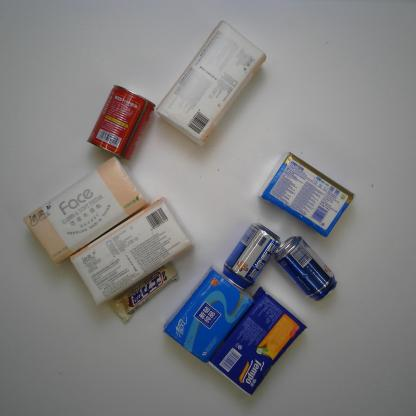Alcohol: (270, 233, 340, 304), (220, 220, 283, 292)
Canned Food: (83, 82, 157, 161)
Chocolate: (109, 258, 181, 327)
Tissue: (150, 18, 268, 152), (65, 194, 197, 308), (21, 154, 152, 268), (205, 285, 310, 398), (162, 264, 256, 365), (256, 148, 358, 239)
